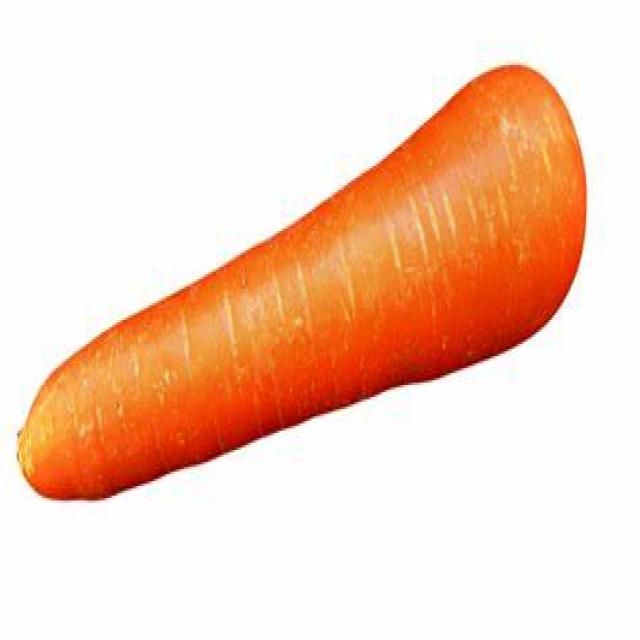Carrot: (18, 67, 589, 505)
